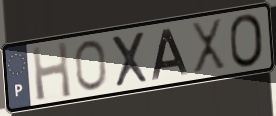A: (150, 27, 191, 81)
H: (30, 39, 74, 103)
O: (227, 12, 266, 70), (73, 38, 109, 93)
X: (109, 29, 151, 90), (189, 16, 229, 76)
